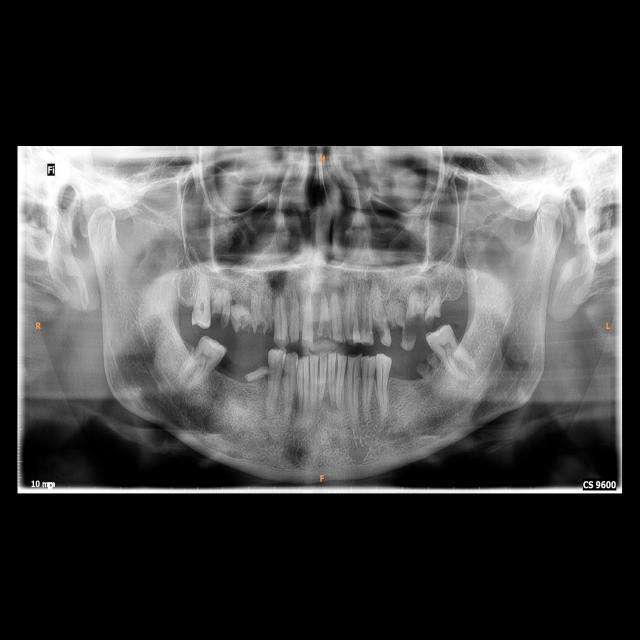dentin-curugu: (401, 309, 418, 352), (370, 319, 391, 348)
kirik: (416, 352, 440, 382), (210, 305, 231, 331), (251, 314, 275, 336), (233, 307, 253, 333), (423, 307, 445, 326), (388, 315, 404, 333)
